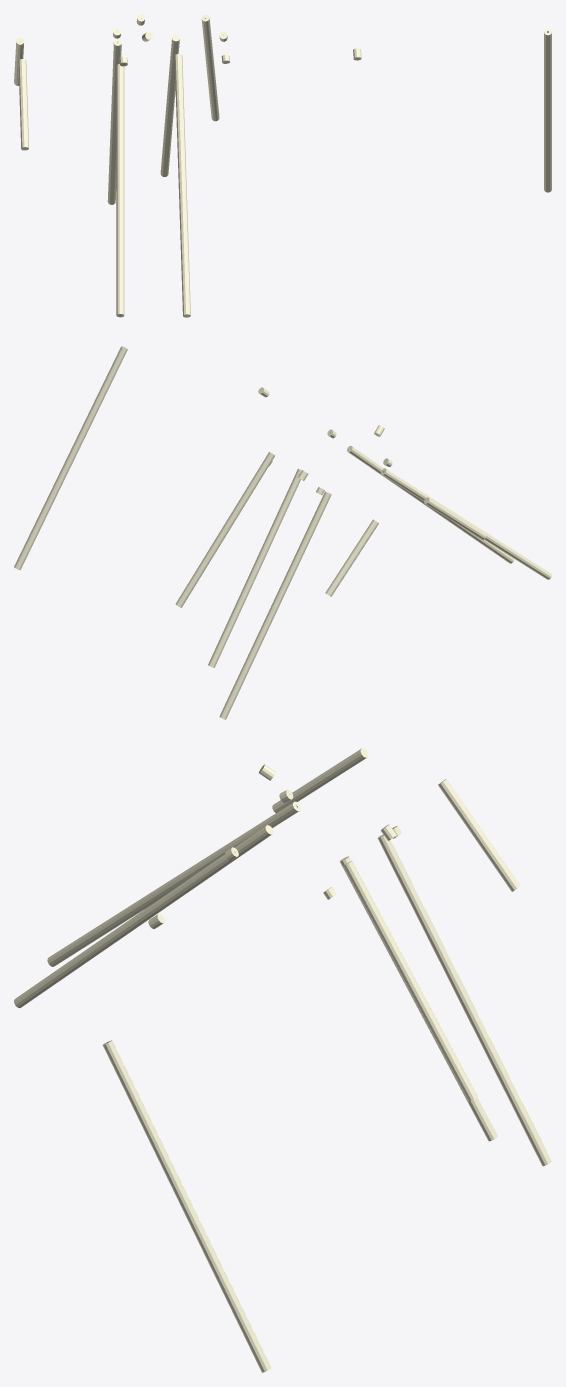
File: tile_235.glb
The picture shows the model from 3 angles, top to bottom: view 1: azimuth 30°, elevation 25°; view 2: azimuth 150°, elevation 25°; view 3: azimuth 270°, elevation 25°; orthographic projection. The views are drawn at different scales.
Bounding box in the file's own units: 18.74 × 9.03 × 12.37.
